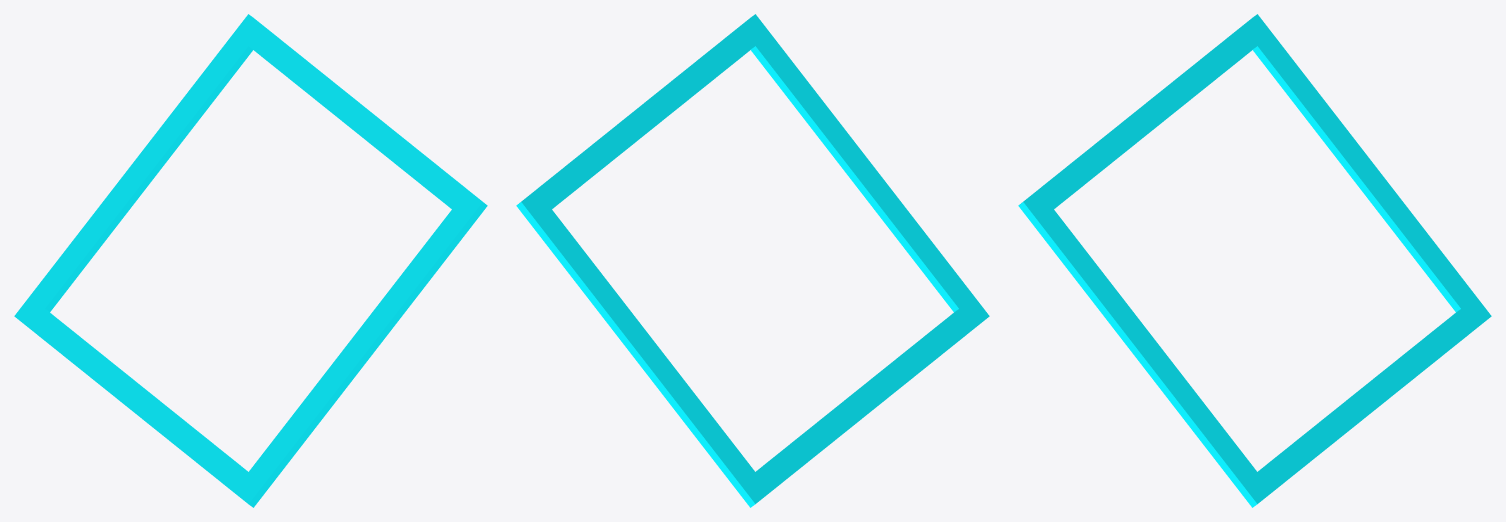
File: SM_Hud_Reticle_02.glb
3 views of the same model, side by side, from view 1: azimuth 30°, elevation 25°; view 2: azimuth 150°, elevation 25°; view 3: azimuth 330°, elevation 25° (orthographic).
Visible parts, largest first — view 1: SM_Hud_Reticle_02; view 2: SM_Hud_Reticle_02; view 3: SM_Hud_Reticle_02.
Boxes of the visible parts, left/top/right/bottom form: SM_Hud_Reticle_02: left=14, top=14, right=487, bottom=507; SM_Hud_Reticle_02: left=516, top=14, right=989, bottom=507; SM_Hud_Reticle_02: left=1018, top=14, right=1491, bottom=507.
Bounding box in the file's own units: 0.4341 × 0.4341 × 0.00821.
